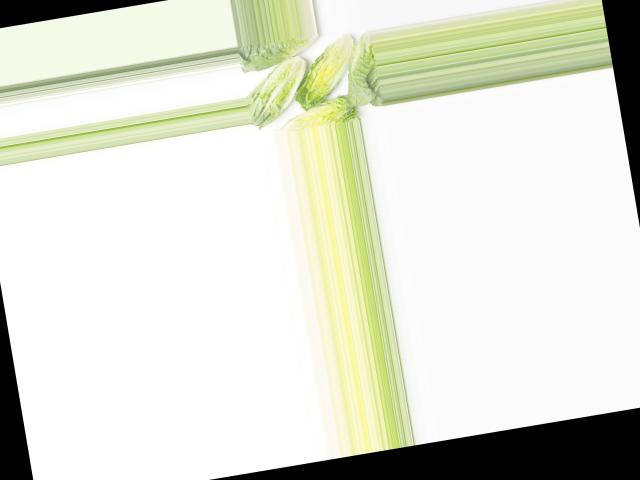lettuce: (336, 33, 384, 112)
